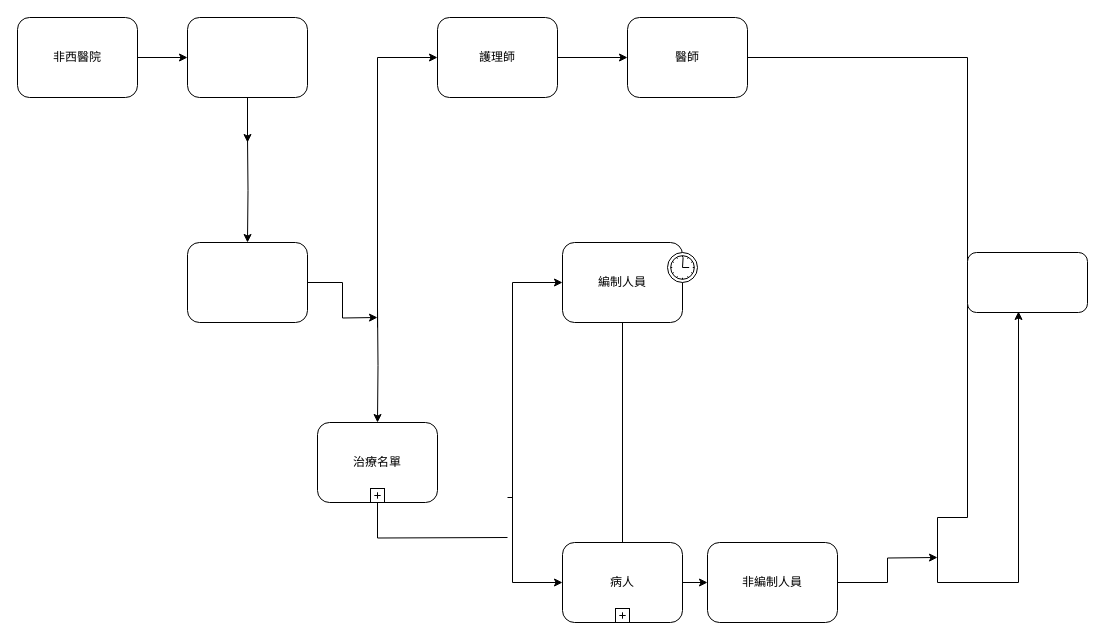
Some shapes in this 1105 by 640 pixel diagram are drawn without their labels. The box of each missing label's shape, as (x1, y1, x2, y2) in pixels:
名單: (966, 252, 1088, 312)
時段: (186, 242, 308, 322)
診間: (186, 16, 308, 98)
